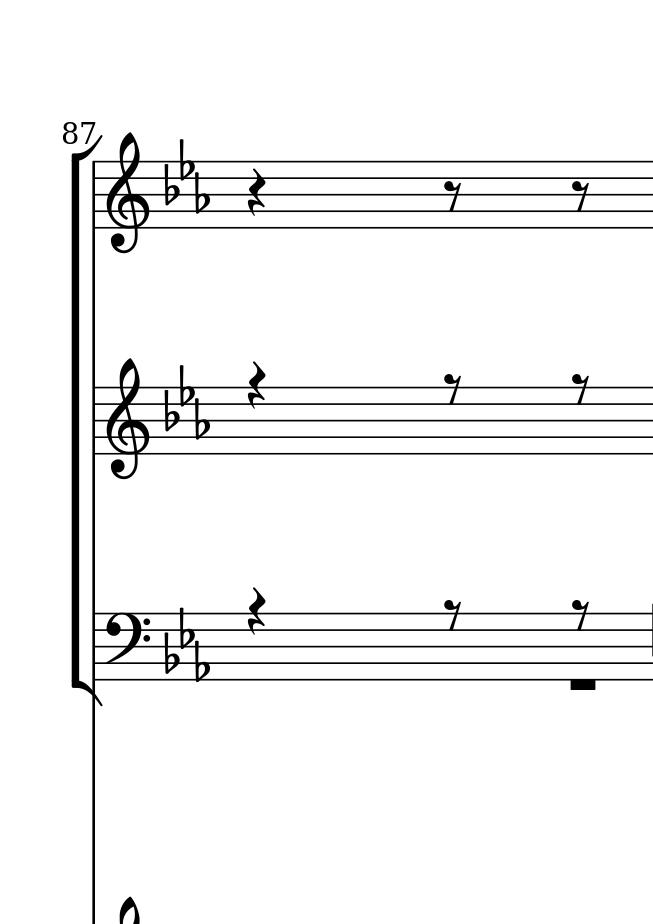7: (79, 118, 96, 144)
8: (62, 119, 78, 147)
Bracke: (70, 135, 106, 710)
E_F: (161, 135, 212, 214), (162, 363, 211, 440), (162, 606, 210, 678)
Fclef: (105, 611, 150, 683)
Gclef: (105, 132, 150, 254), (107, 359, 151, 480)
Rests1: (566, 674, 598, 697)
Rests4: (245, 166, 267, 219), (244, 362, 268, 408), (246, 585, 266, 637)
Rests8: (441, 370, 465, 403), (567, 595, 589, 630), (440, 597, 464, 628), (570, 177, 591, 212), (443, 178, 463, 212), (571, 371, 590, 406)
Single_barline: (88, 385, 103, 457), (88, 611, 101, 682)
ToCoda: (88, 161, 105, 230)
